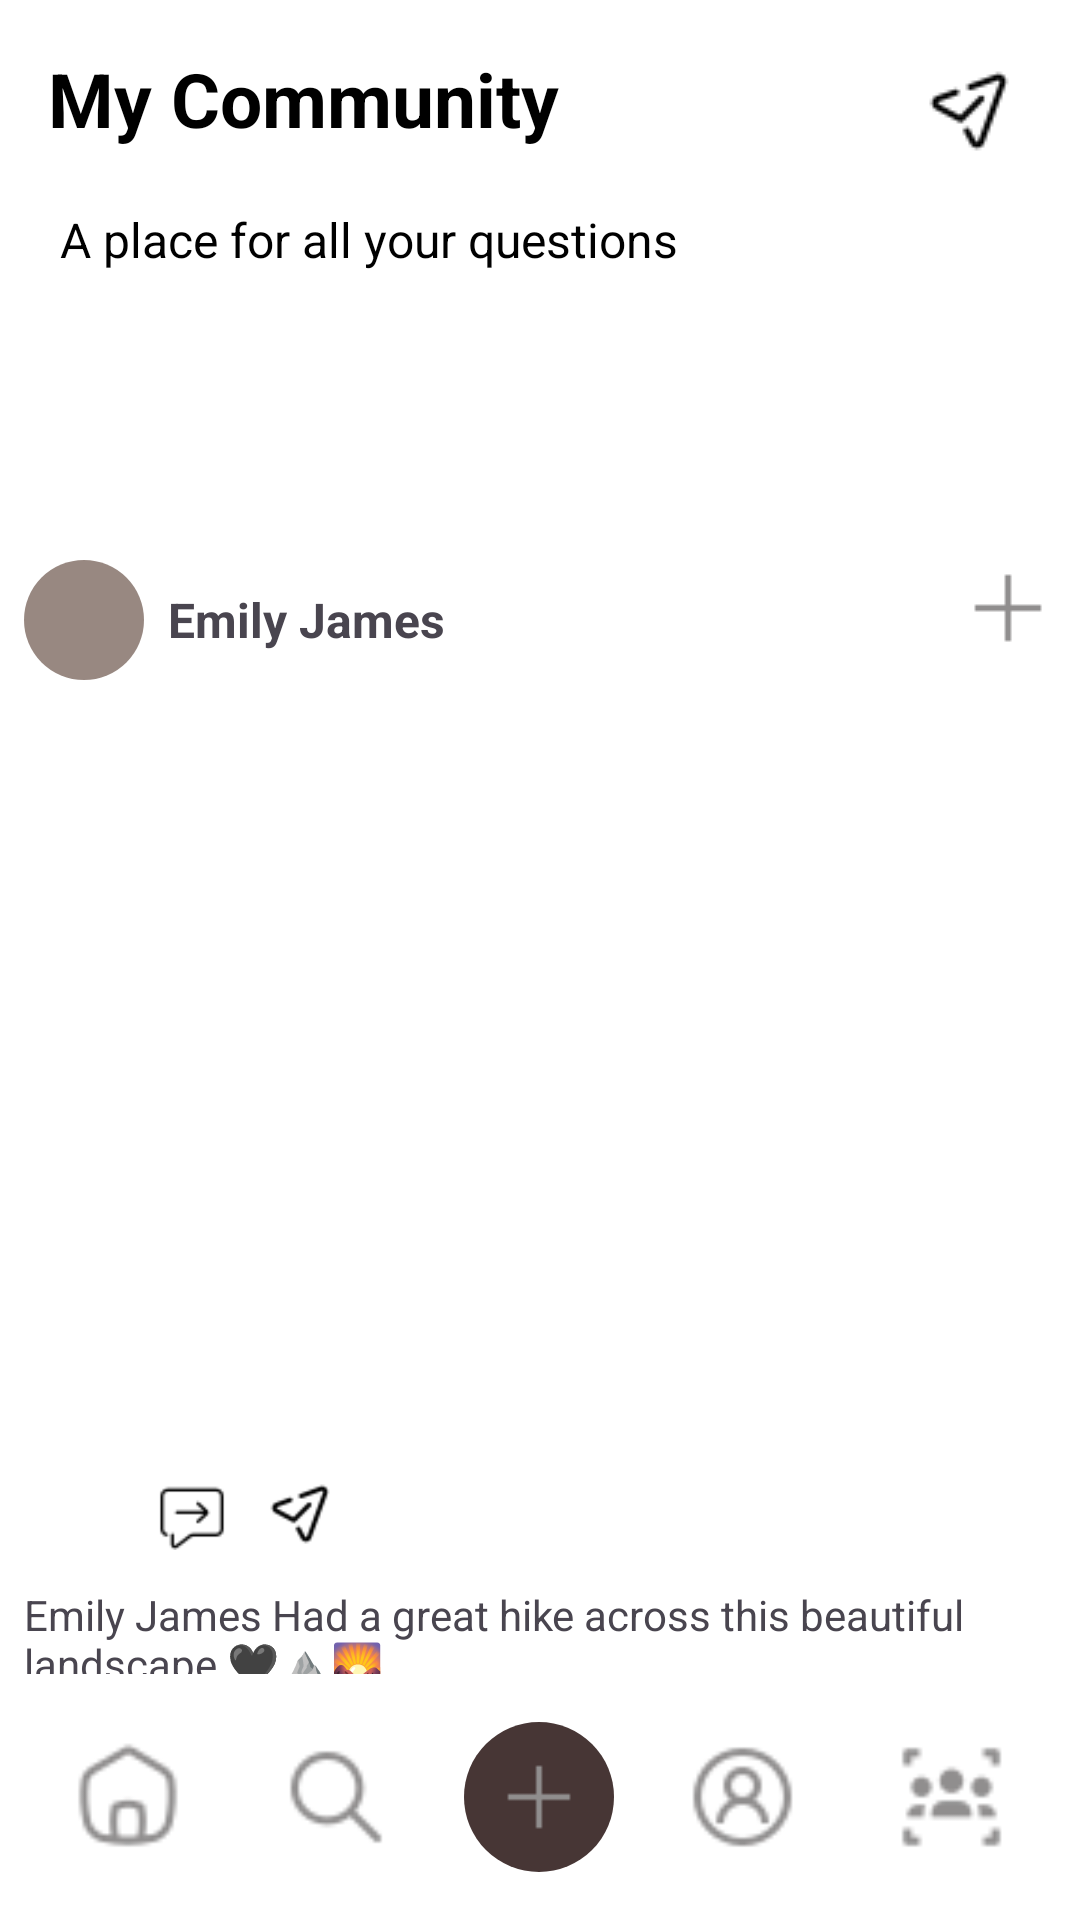

Icon click points for this 1080px x 1920px phone screenshot, format [x,y]:
addbtn: [1008,608], [539,1797]
comment: [192,1518]
contacts: [951,1797]
home: [128,1796]
profile: [742,1797]
search: [336,1797]
send: [968,111], [299,1514]
